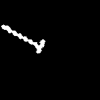half_double_crochet: (1, 25, 44, 52)
